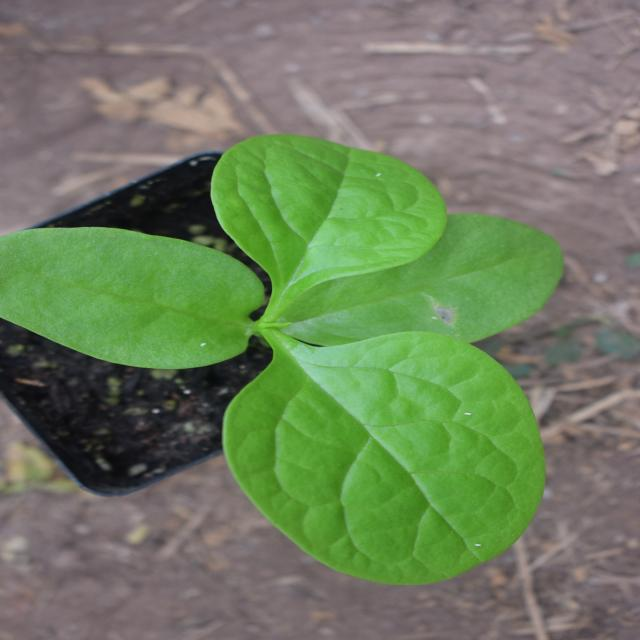Ceylon spinach: (74, 72, 530, 594)
